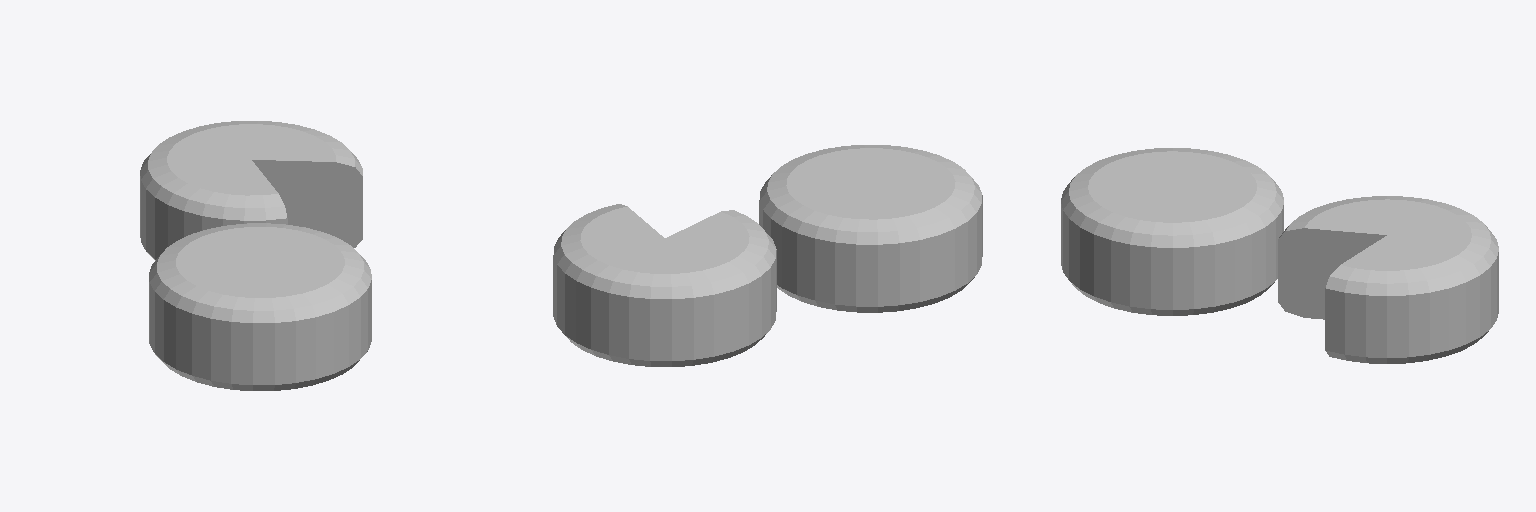
Rendered from cheese.obj.
3 views of the same model, side by side, from view 1: azimuth 30°, elevation 25°; view 2: azimuth 150°, elevation 25°; view 3: azimuth 270°, elevation 25° (orthographic).
Parts seen in each view (by area): view 1: Circle.002_Circle.009, Circle.001_Circle.006; view 2: Circle.002_Circle.009, Circle.001_Circle.006; view 3: Circle.002_Circle.009, Circle.001_Circle.006.
Part boxes in pixels (bbox=[...]): Circle.002_Circle.009: bbox=[149, 223, 371, 390]; Circle.001_Circle.006: bbox=[140, 121, 362, 260]; Circle.002_Circle.009: bbox=[759, 145, 982, 312]; Circle.001_Circle.006: bbox=[553, 204, 776, 366]; Circle.002_Circle.009: bbox=[1061, 148, 1283, 315]; Circle.001_Circle.006: bbox=[1278, 196, 1498, 363].
Bounding box in the file's own units: 0.5457 × 0.1601 × 0.7088.